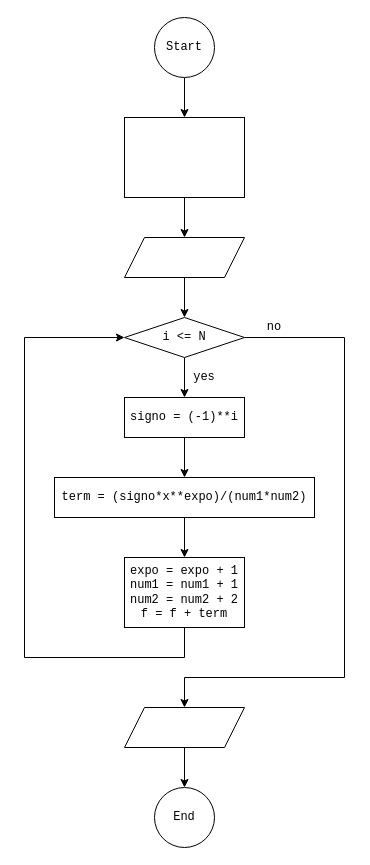
This 370x865 diagram has some shape labels left out. The centre of each missing label's shape, as x and y in pixels:
"f = 1 expo = 3 num1 = 1 num2 = 2 i = 1" goes at (x=184, y=157).
"print f" goes at (x=184, y=727).
"read x, N" goes at (x=184, y=257).
